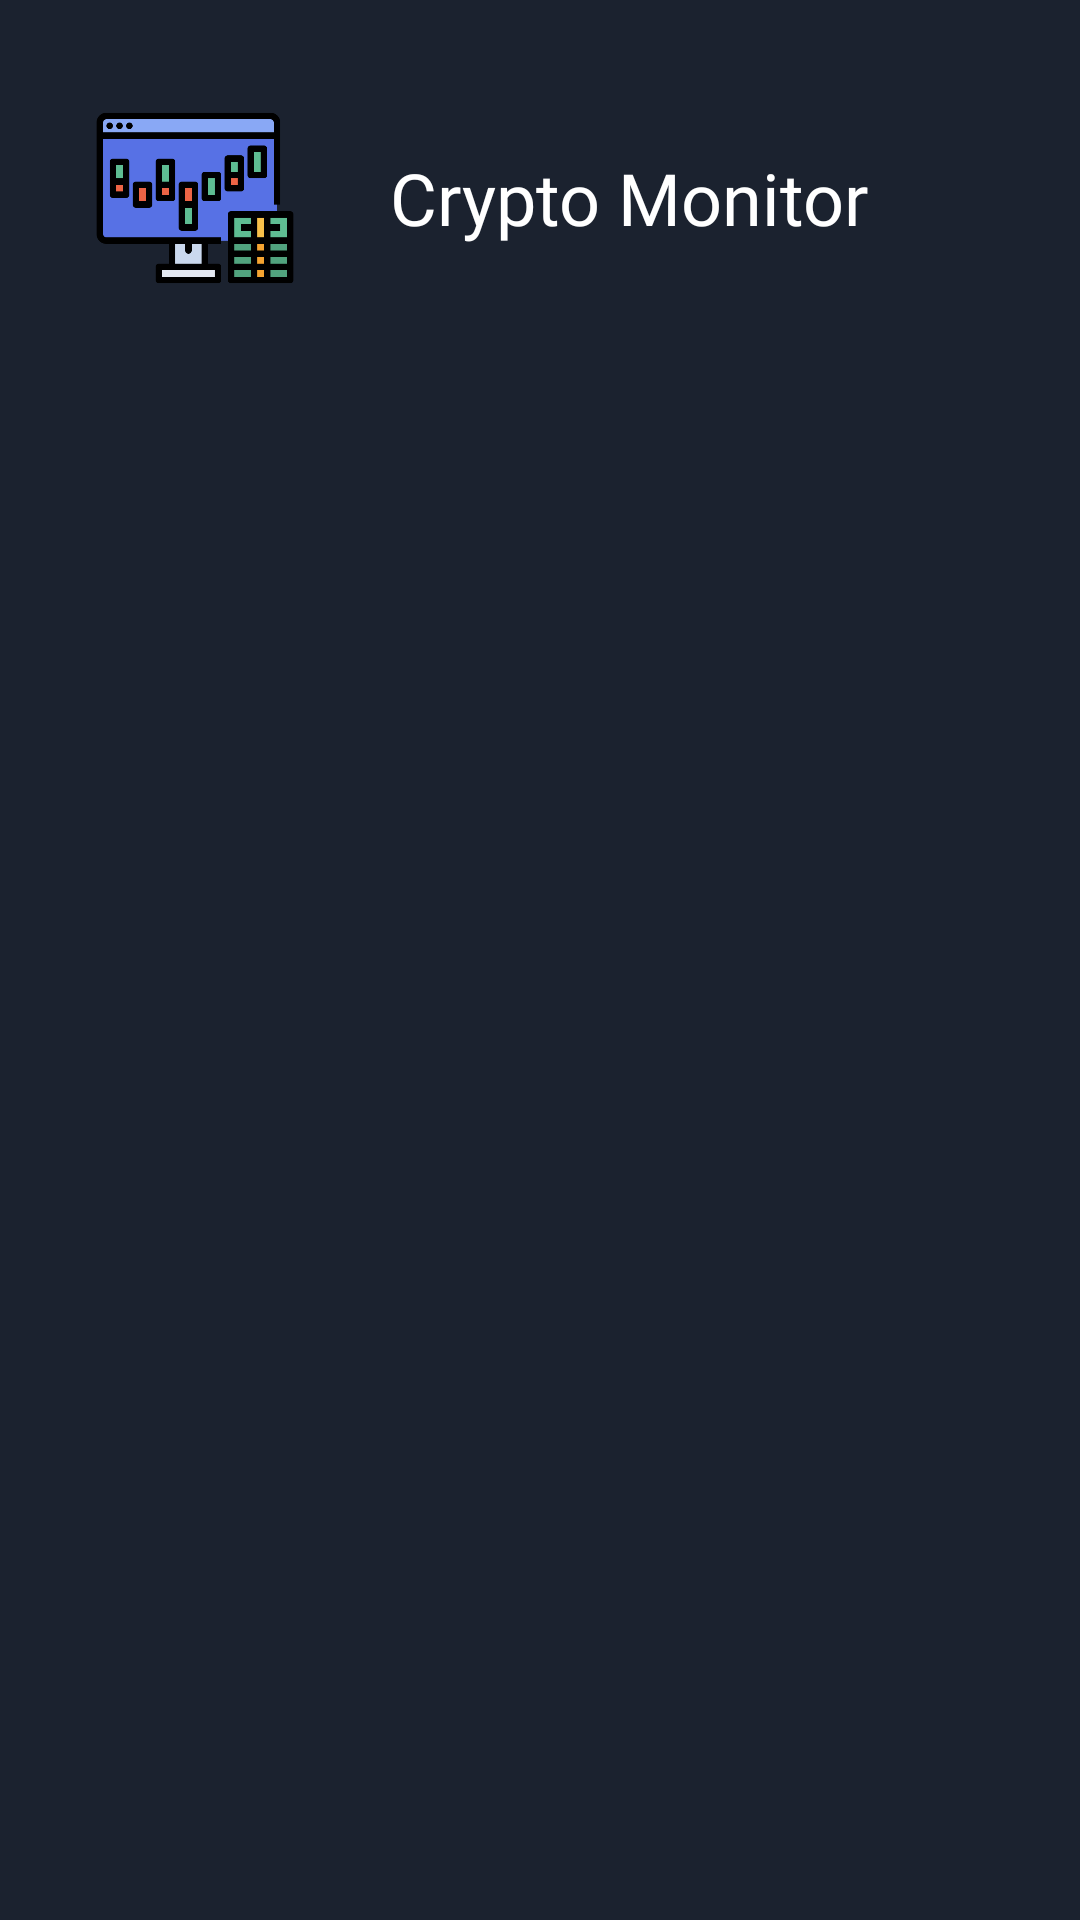

Named icons in this screenshot (1080*1920) and their centers, (x,y):
investment: (195,198)
